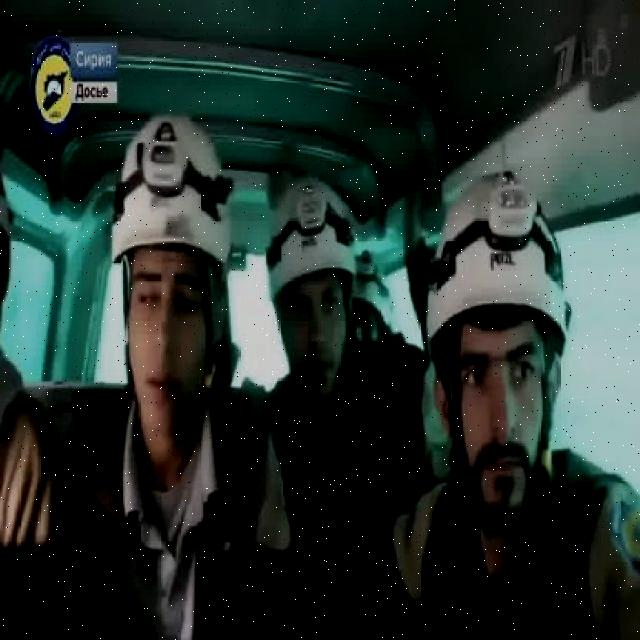Helmet: (427, 166, 565, 357), (111, 110, 232, 272), (266, 173, 357, 307)
